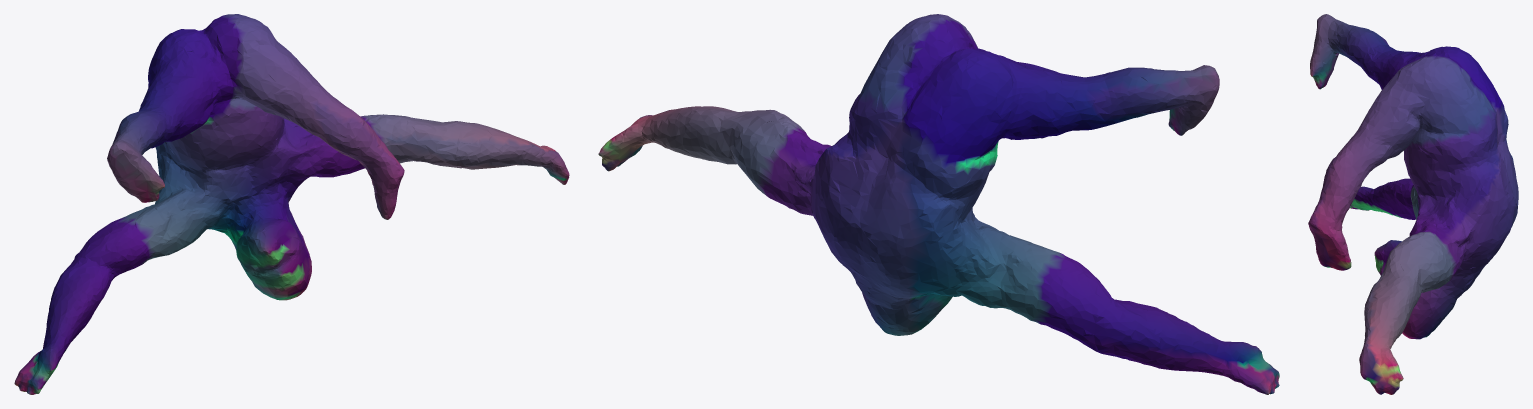
Rendered from gorilla-12.off.obj.
3 renders of one model, left to right at view 1: azimuth 30°, elevation 25°; view 2: azimuth 150°, elevation 25°; view 3: azimuth 270°, elevation 25°, orthographic. The views are drawn at different scales.
Size of the model in its own units: 1.6 by 0.7814 by 0.5677.
